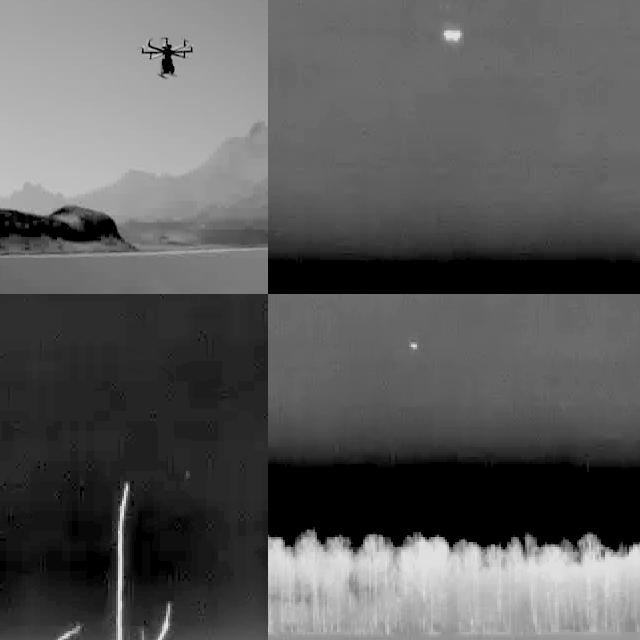0: (171, 460, 197, 490)
1: (432, 23, 470, 55), (396, 334, 424, 364)
drone: (139, 28, 193, 82)
